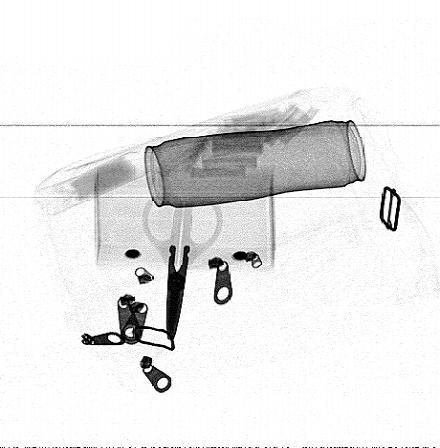Scissors: (141, 190, 224, 342)
